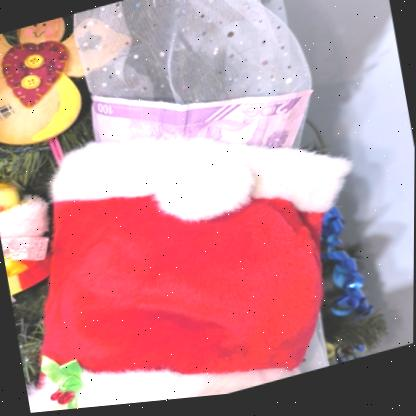one_hundred-back-vef: (86, 43, 323, 201)
